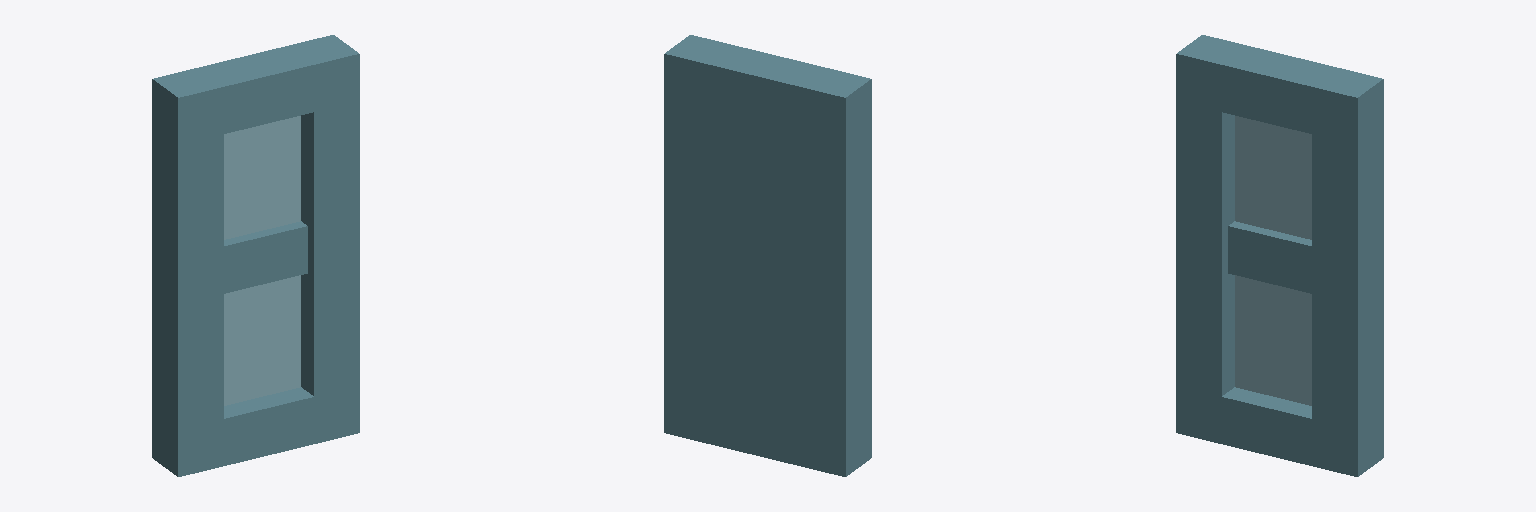
The model's file is cryptDoor.obj.
3 renders of one model, left to right at view 1: azimuth 30°, elevation 25°; view 2: azimuth 150°, elevation 25°; view 3: azimuth 330°, elevation 25°, orthographic.
Visible parts, largest first — view 1: cryptDoor; view 2: cryptDoor; view 3: cryptDoor.
Part boxes in pixels (x1,y1,x2,y2): cryptDoor: (152,35,359,476); cryptDoor: (664,35,871,476); cryptDoor: (1176,35,1383,476).
Size of the model in its own units: 0.4 by 0.8 by 0.1.